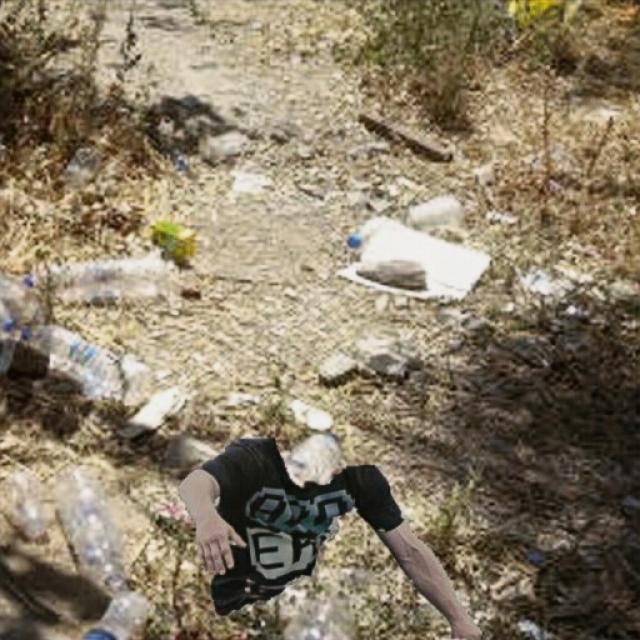Person in Rubble: (178, 438, 482, 638)
